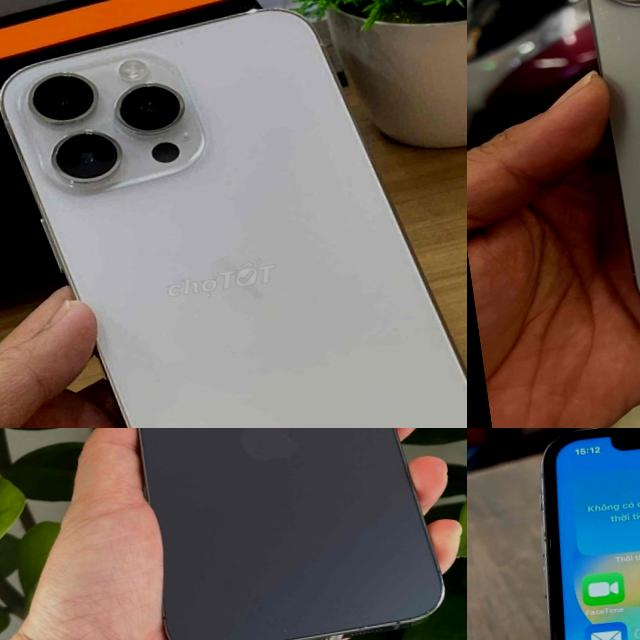gen_14: (0, 0, 467, 428), (108, 428, 458, 640)
gen_15: (548, 0, 640, 340)
gen_x_xs: (495, 428, 640, 640)
